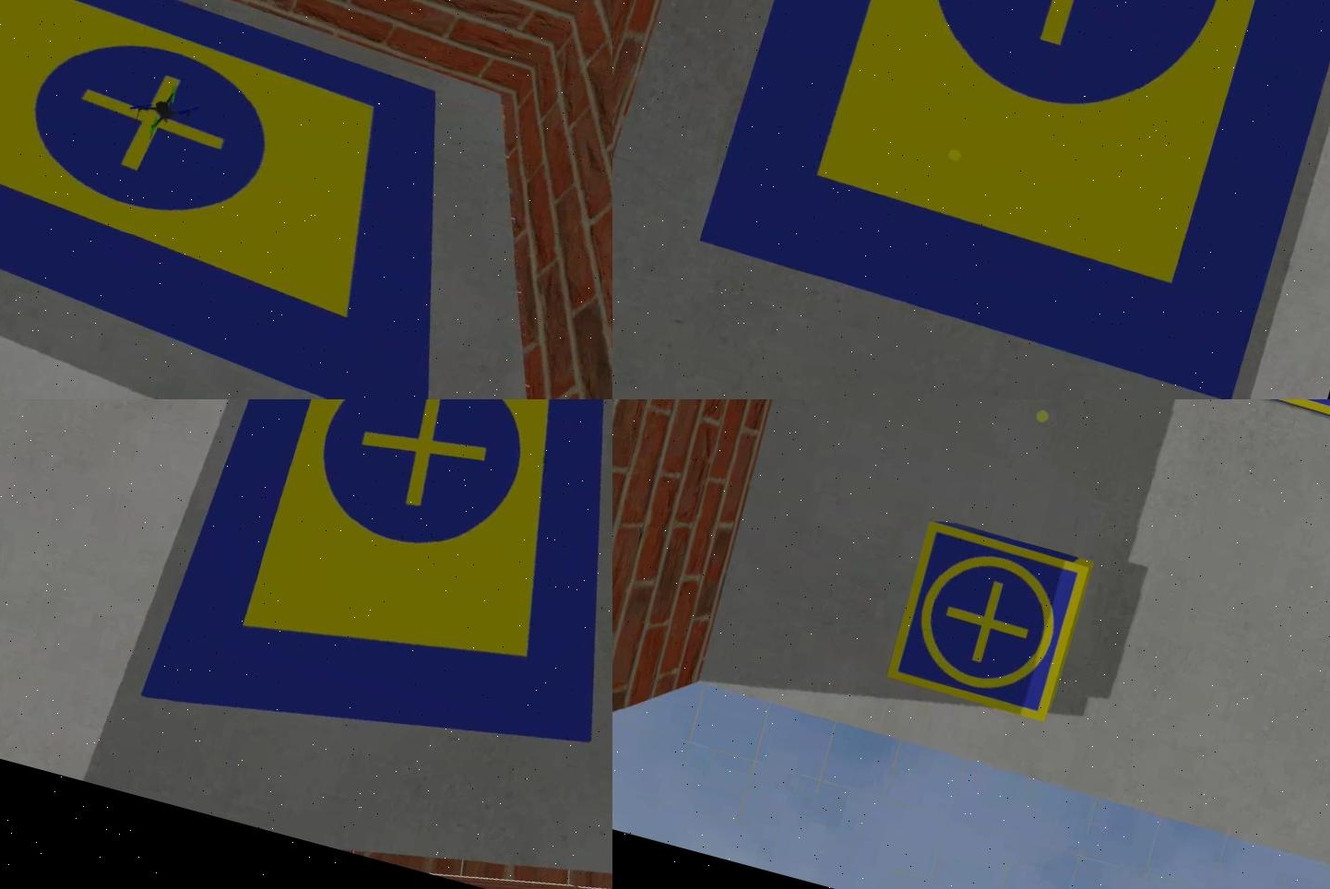large_base: (692, 1, 1328, 400), (0, 1, 520, 400), (136, 400, 611, 813)
small_base: (880, 517, 1090, 725)
